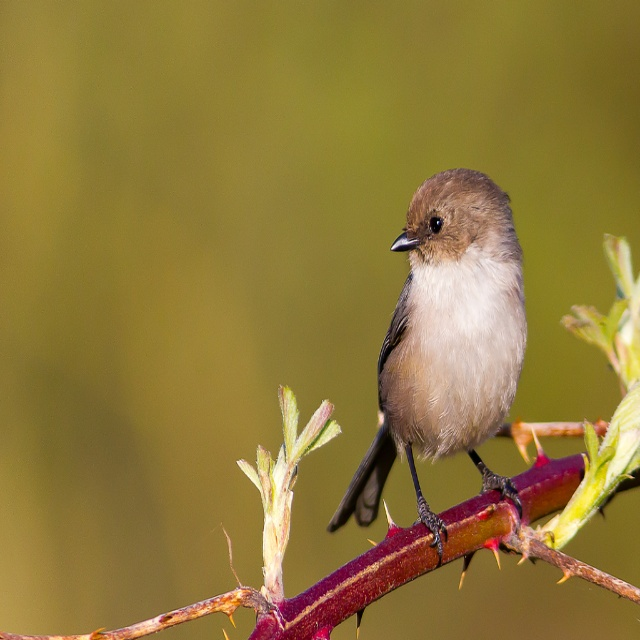Sparrow: (325, 167, 528, 568)
